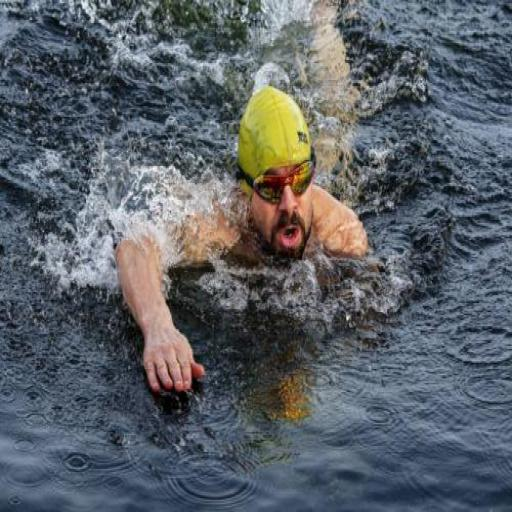swimming: (112, 83, 372, 401)
